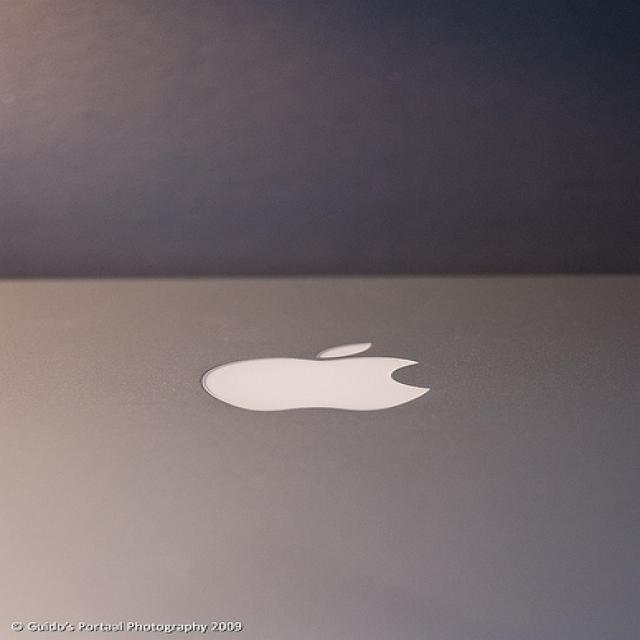apple: (196, 334, 445, 418)
